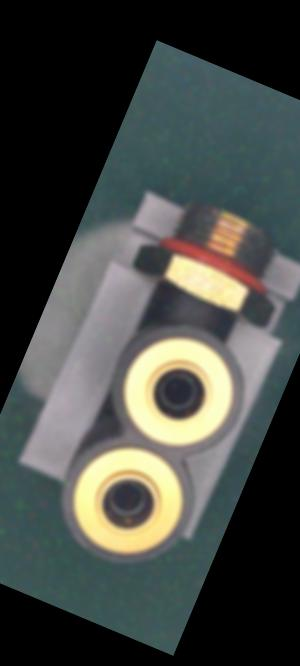joint line: (186, 297, 208, 331)
